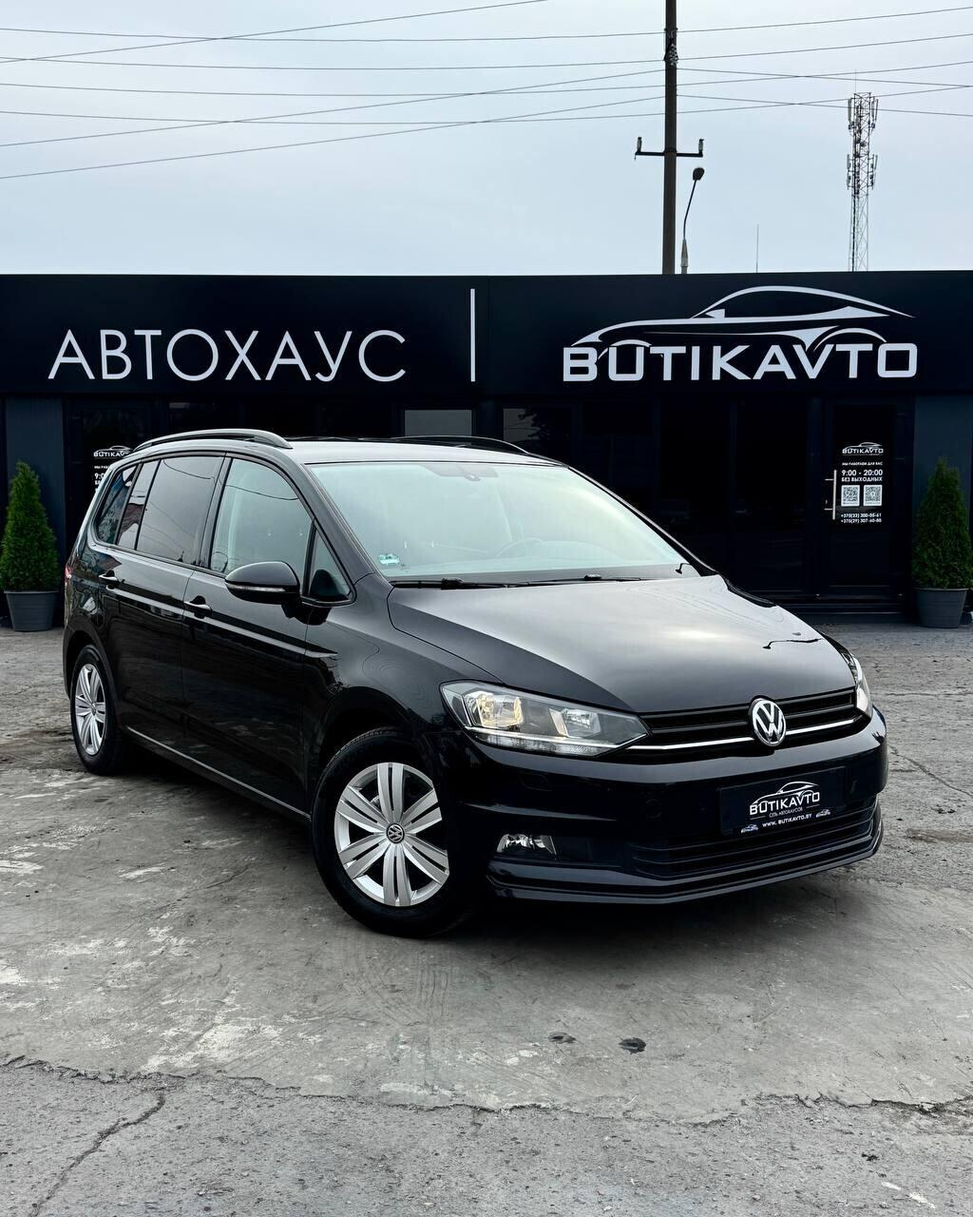Touran_2015: (59, 428, 885, 941)
